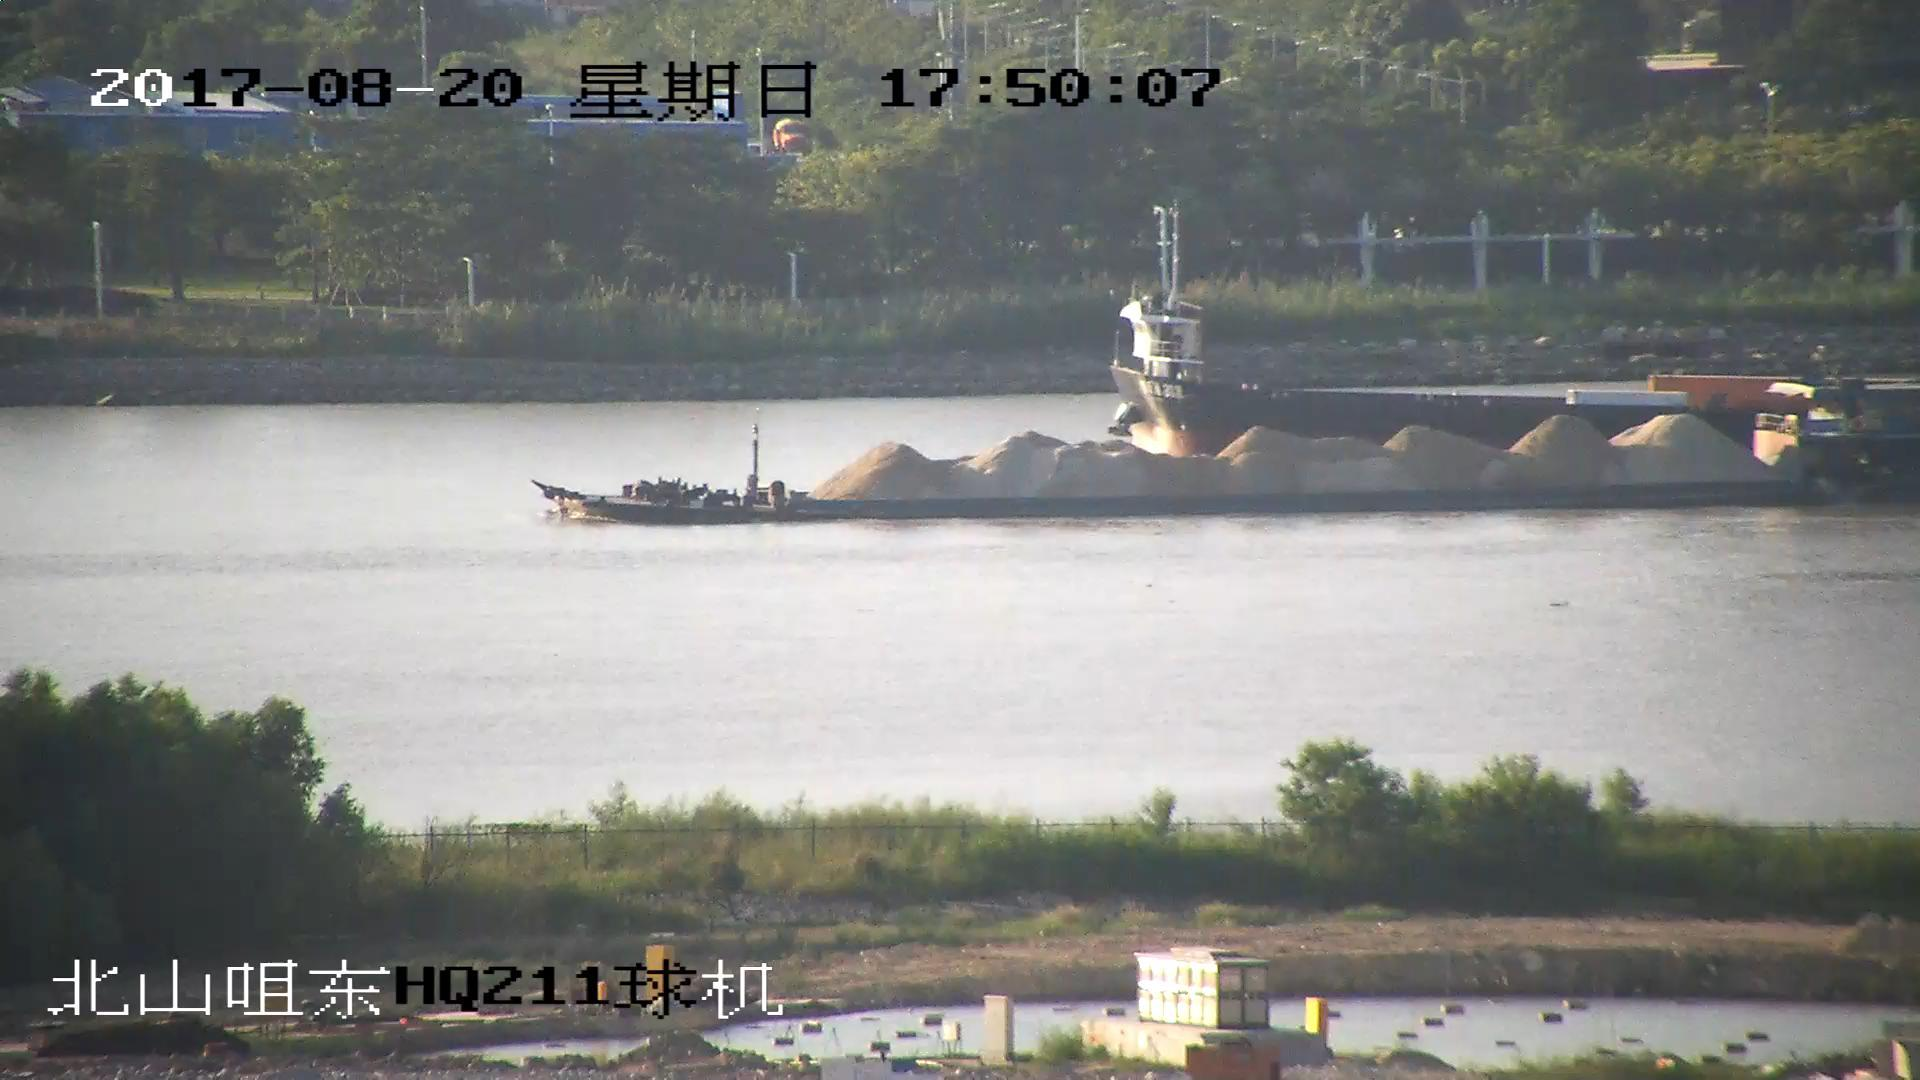Ship: (1102, 206, 1920, 451), (547, 381, 1920, 520)
